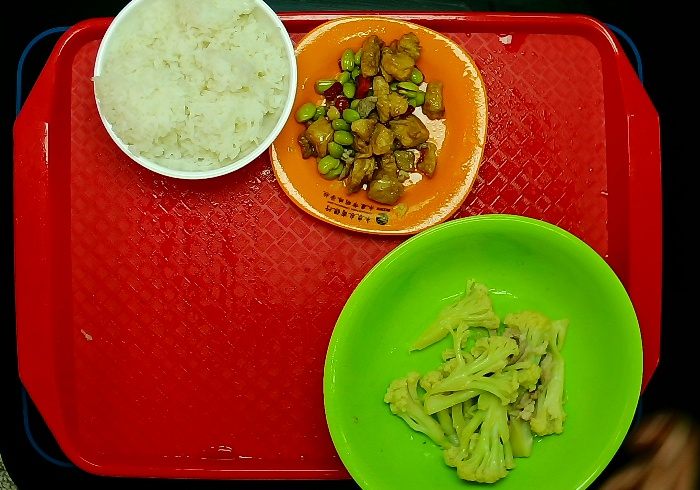YKMZ-Fan_Wan: (90, 1, 299, 183)
YKMZ-Ju_Se_Fang_Die: (268, 14, 489, 238)
YKMZ-Lv_Se_Tang_Wan: (318, 213, 646, 490)
